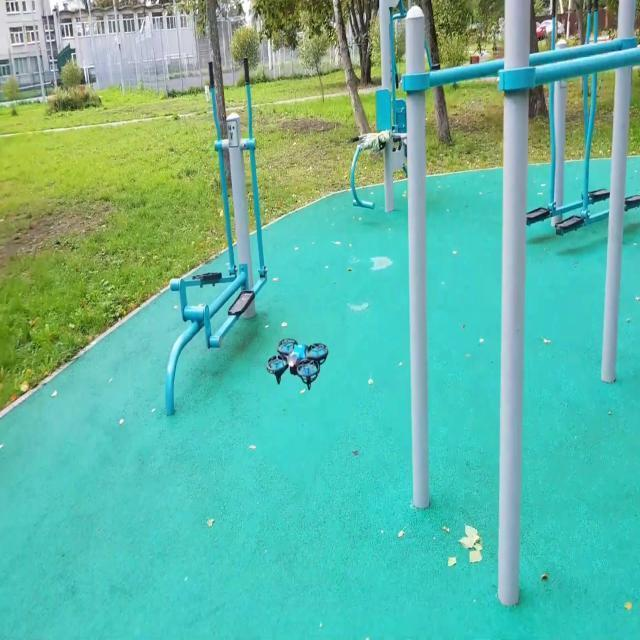Drons: (260, 334, 330, 394)
